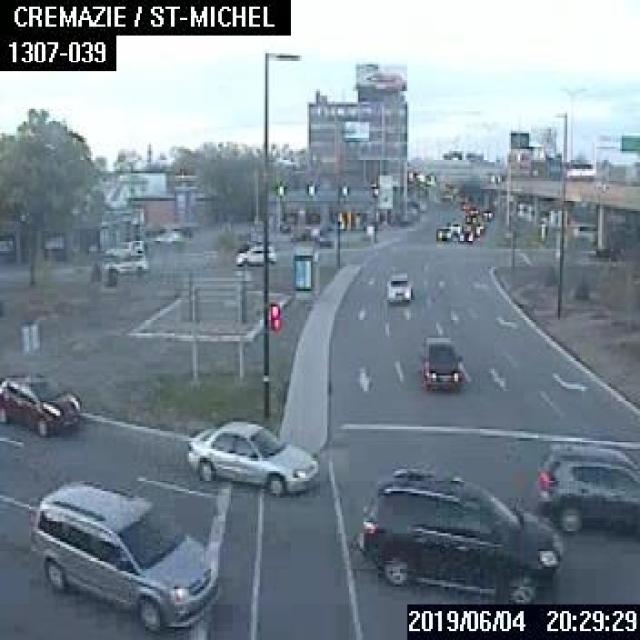vehicle: (28, 478, 216, 631), (358, 463, 561, 600), (184, 416, 320, 496), (536, 440, 638, 532), (0, 369, 82, 435), (418, 331, 462, 389), (100, 251, 147, 273), (384, 269, 411, 302), (233, 243, 274, 264), (103, 240, 143, 257), (152, 229, 180, 244), (435, 224, 450, 240), (127, 238, 144, 252), (457, 228, 471, 241), (480, 207, 492, 219), (448, 221, 461, 232)
